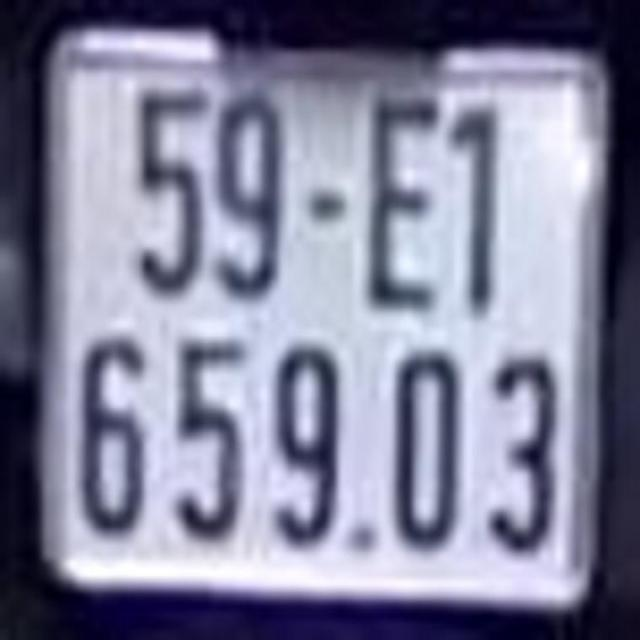0: (393, 346, 458, 544)
1: (459, 102, 501, 310)
3: (482, 352, 555, 550)
5: (132, 86, 207, 292), (168, 338, 244, 536)
6: (78, 344, 150, 545)
9: (213, 94, 282, 300), (268, 340, 336, 546)
E: (372, 99, 441, 308)
